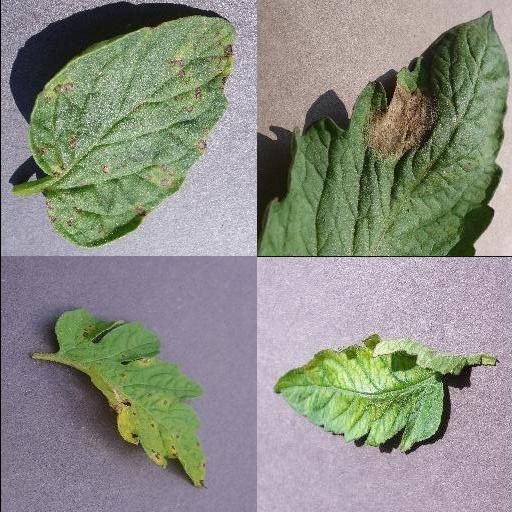Late Blight: (256, 12, 512, 256)
Mosaic Virus: (273, 333, 445, 452)
Septoria: (27, 18, 241, 250), (54, 308, 208, 488)
